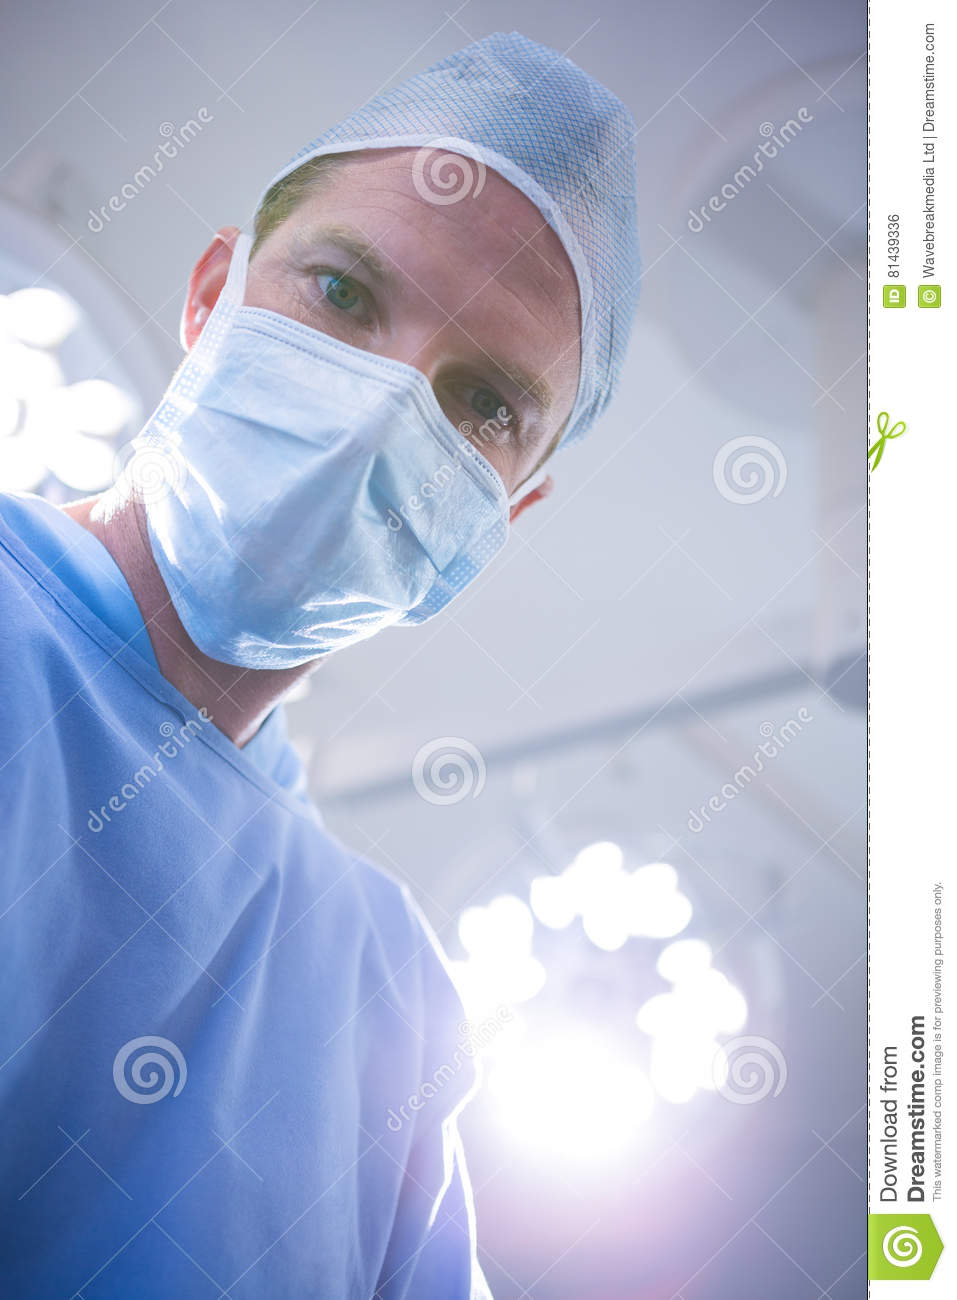mask: (170, 329, 498, 701)
